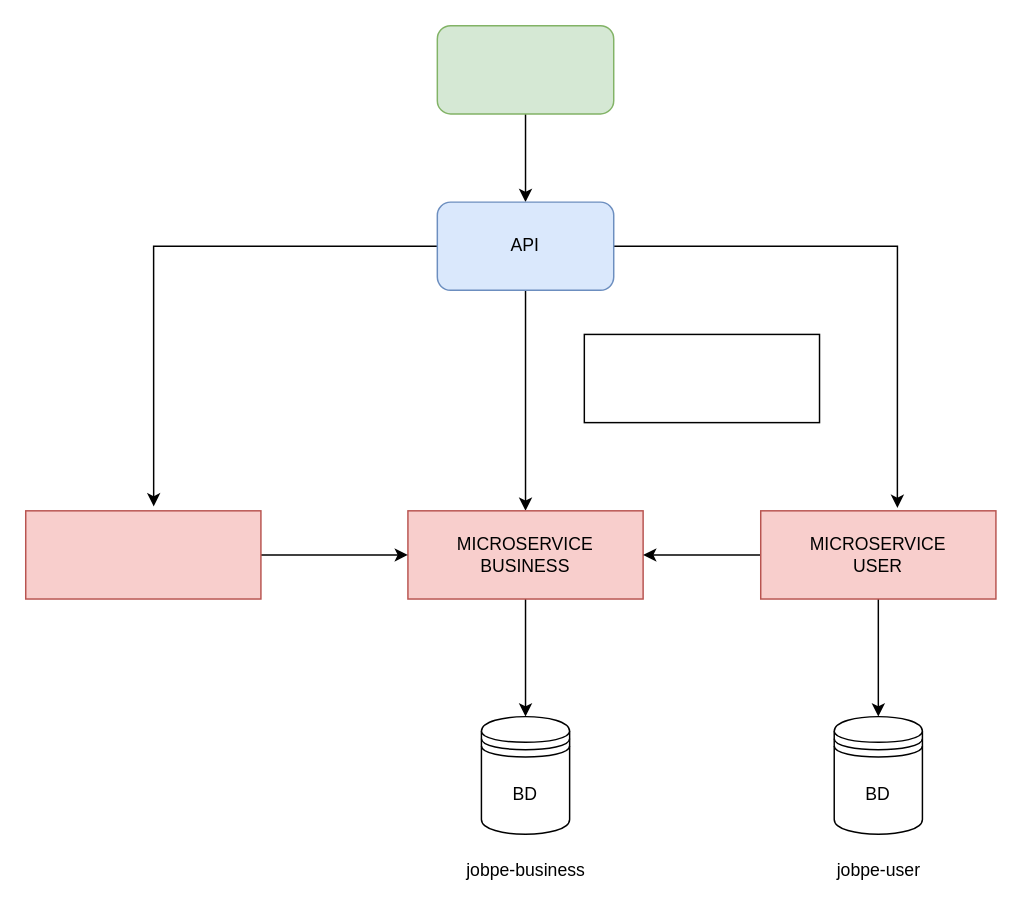
Some shapes in this 1022 by 911 pixel diagram are drawn without their labels. Each missing label, with the box of its shape:
CLIENT: (436, 24, 614, 114)
MICROSERVICE EDGE: (24, 509, 261, 599)
MICROSERVICE EUREKA: (583, 333, 820, 423)
